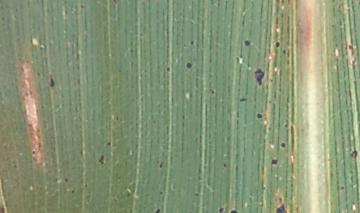tarspot: (347, 42, 358, 71), (253, 67, 264, 87), (273, 203, 290, 213), (47, 75, 57, 87), (242, 38, 252, 48), (98, 153, 106, 165), (184, 61, 194, 70), (255, 111, 264, 121), (207, 86, 216, 96), (350, 149, 358, 159), (238, 96, 248, 104), (273, 39, 280, 49), (282, 122, 290, 130), (270, 158, 278, 166), (62, 176, 70, 184), (279, 140, 286, 149), (157, 160, 164, 169), (221, 161, 228, 169), (339, 184, 346, 192), (217, 206, 224, 213), (83, 181, 89, 189), (114, 113, 120, 121), (229, 208, 238, 213), (165, 66, 171, 73), (106, 140, 112, 147), (193, 191, 200, 197), (30, 149, 37, 155), (69, 189, 76, 195), (281, 47, 286, 55), (153, 208, 161, 213), (79, 3, 85, 9), (158, 190, 164, 196), (189, 39, 194, 46)
